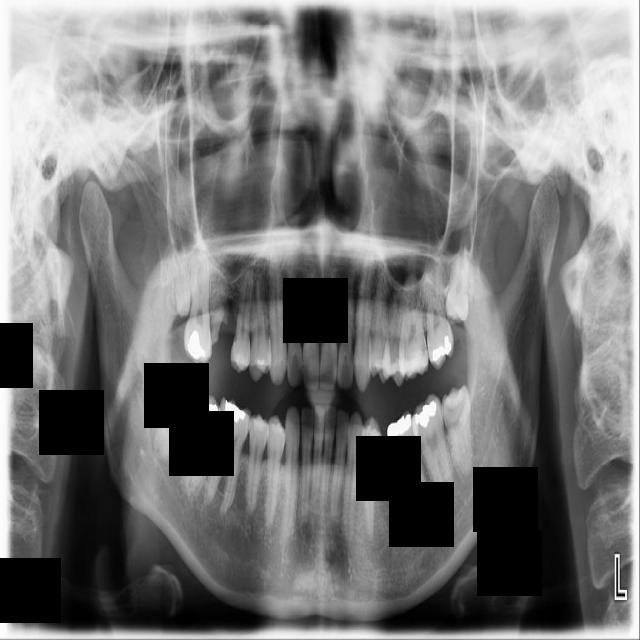3M ESPE Implant: (170, 242, 193, 320)
52: (398, 391, 458, 450), (381, 408, 427, 465), (417, 321, 468, 372), (214, 396, 253, 454), (187, 385, 224, 442), (397, 340, 431, 382), (183, 322, 212, 366), (246, 340, 274, 384)
73: (616, 610, 625, 614)
BioHorizons Implant: (421, 257, 456, 371)
BioLife Implant: (445, 232, 470, 325)
Biomet 3i Implant: (440, 384, 474, 480)
Blue Sky Bio Implant: (407, 392, 457, 507)
Caries: (183, 248, 214, 367)
Implant: (182, 385, 224, 499)
Keystone Dental Implant: (146, 385, 202, 468)
